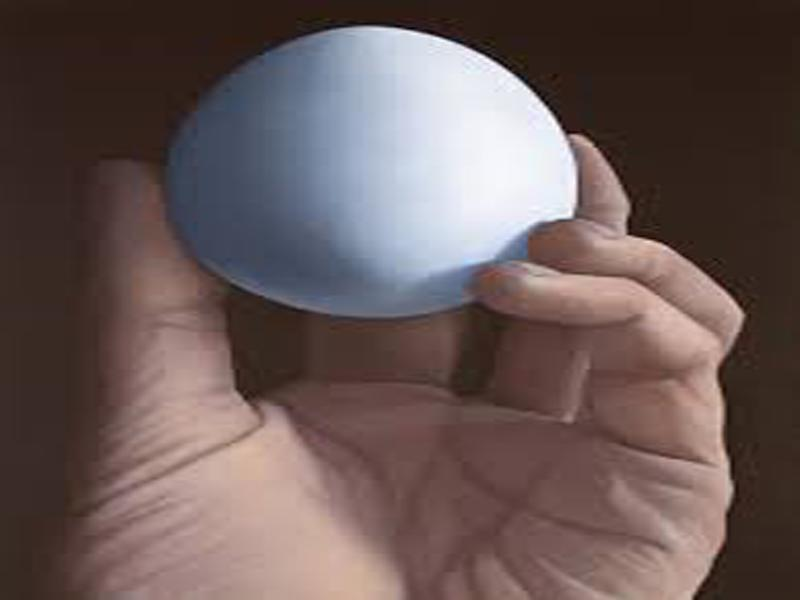Eggs: (169, 23, 581, 314)
